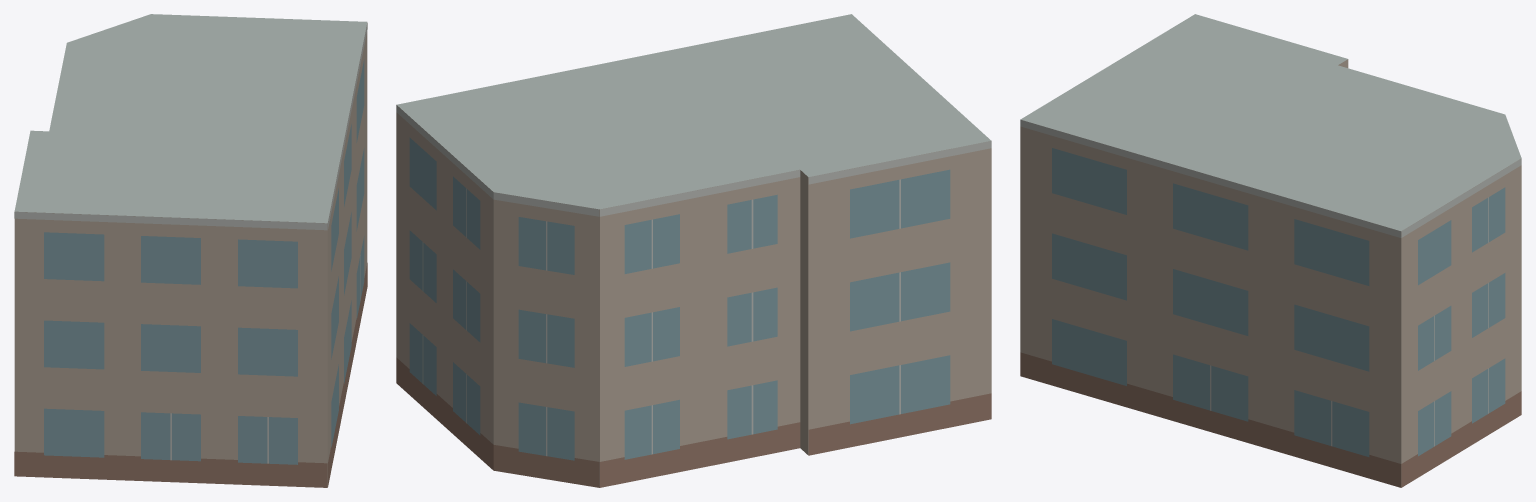
Rendered from survey-upis-32700481.glb.
3 views of the same model, side by side, from view 1: azimuth 30°, elevation 25°; view 2: azimuth 150°, elevation 25°; view 3: azimuth 270°, elevation 25° (orthographic). The views are drawn at different scales.
Visible parts, largest first — view 1: survey-upis-32700481.tmp; view 2: survey-upis-32700481.tmp; view 3: survey-upis-32700481.tmp.
Boxes of the visible parts, x1=… form: survey-upis-32700481.tmp: x1=14, y1=14, x2=367, y2=487; survey-upis-32700481.tmp: x1=396, y1=14, x2=991, y2=487; survey-upis-32700481.tmp: x1=1020, y1=14, x2=1521, y2=487.
Size of the model in its own units: 16.63 by 9.15 by 16.21.
